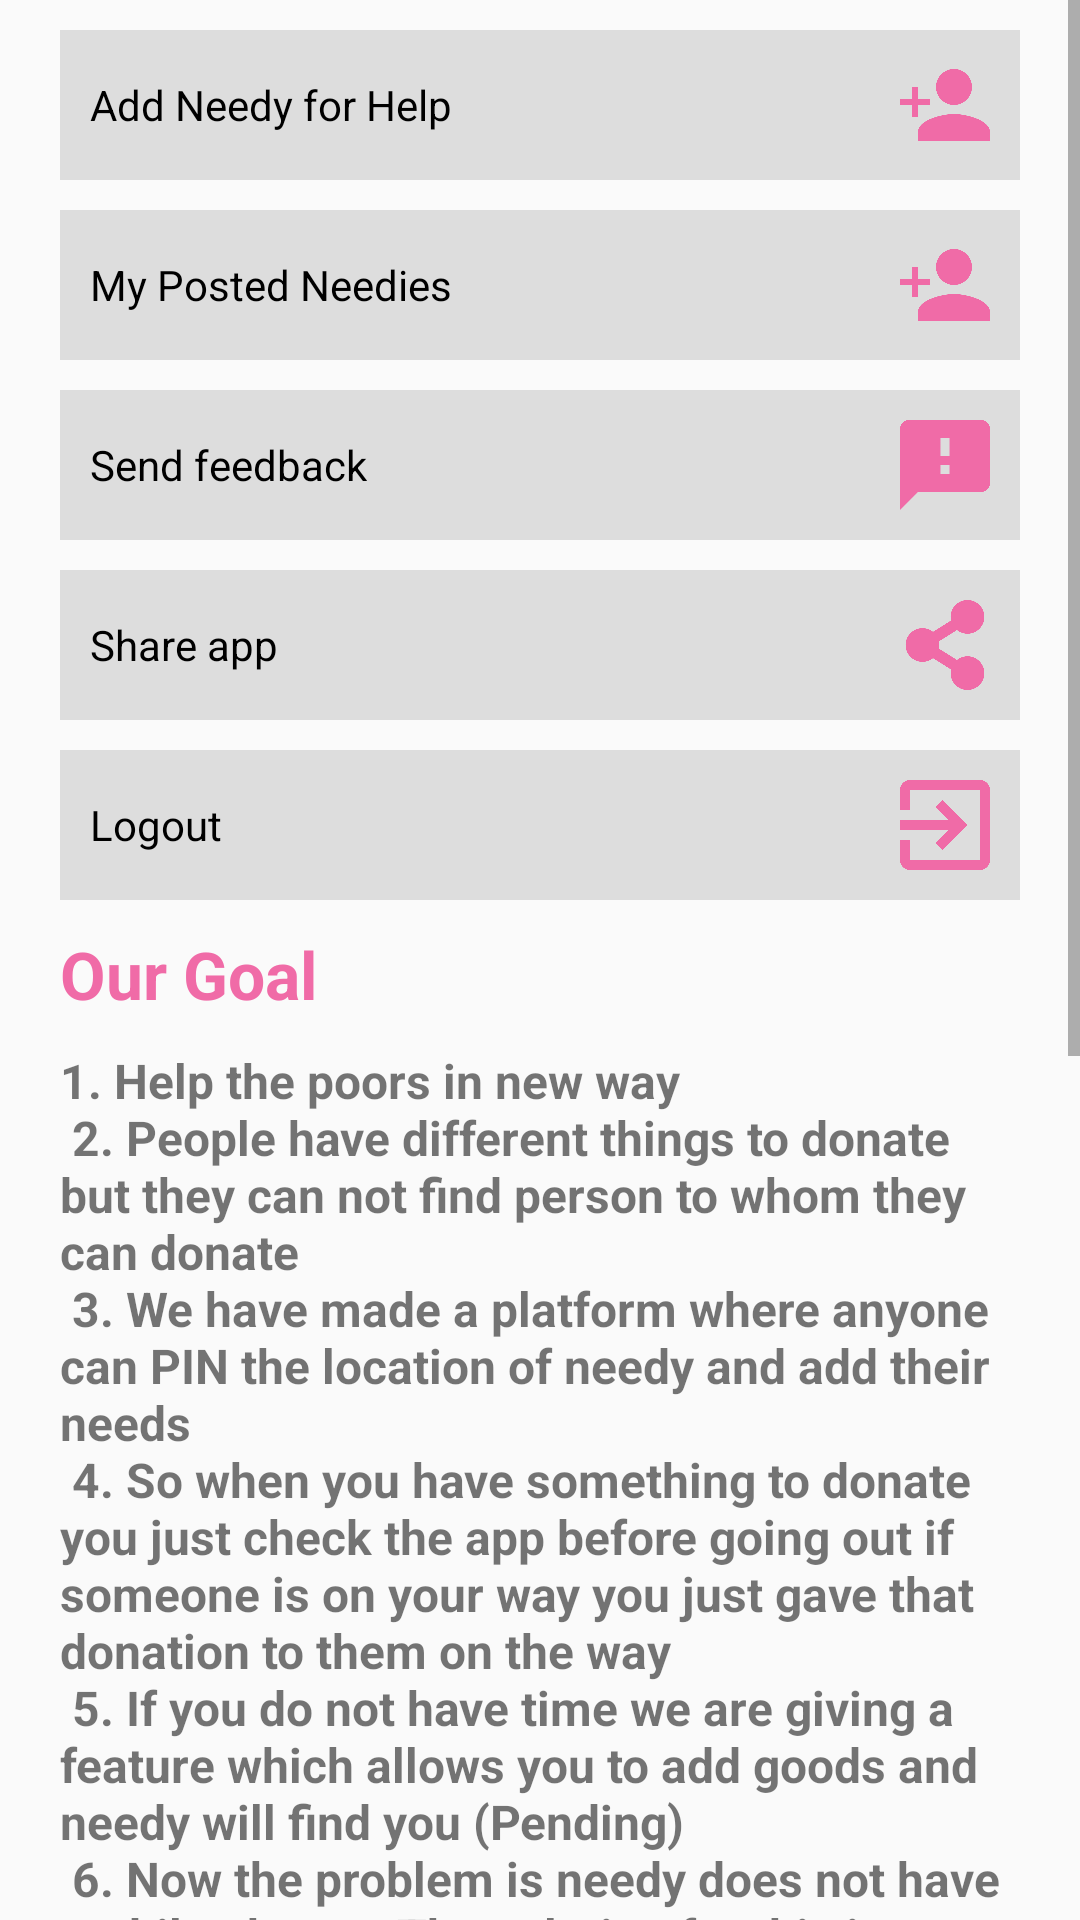

Where icons sit on this 1080px x 1920px app screen, as box=[x1, y1, x2, y2]:
feedback: box=[900, 420, 990, 510]
register needy: box=[900, 69, 990, 141], box=[900, 249, 990, 321]
share: box=[906, 600, 984, 690]
